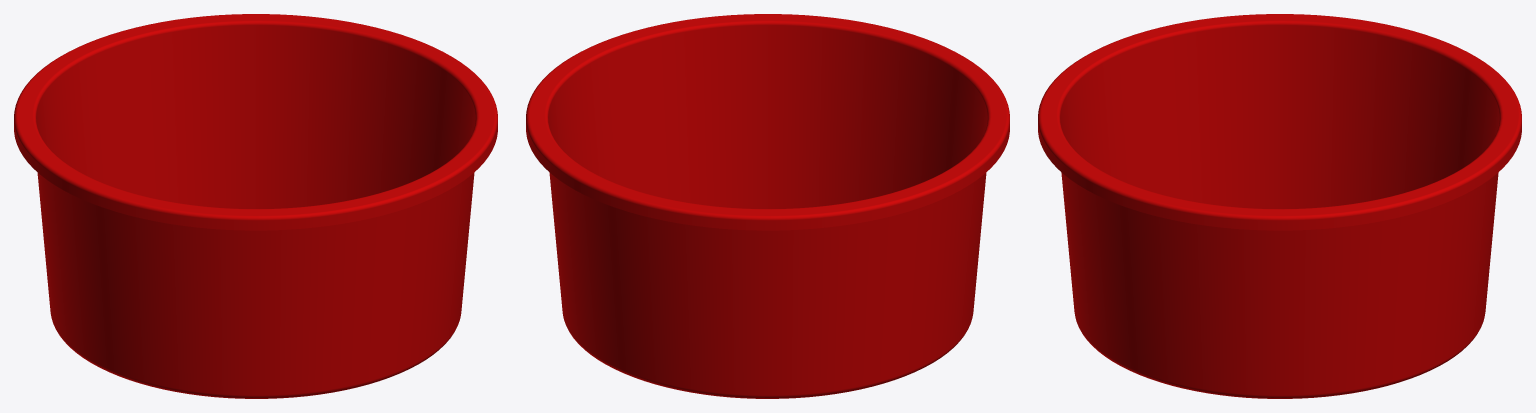
The model's file is Drum_Red.obj.
The picture shows the model from 3 angles, left to right: view 1: azimuth 30°, elevation 25°; view 2: azimuth 150°, elevation 25°; view 3: azimuth 270°, elevation 25°; orthographic projection.
Parts seen in each view (by area): view 1: Solid1; view 2: Solid1; view 3: Solid1.
Boxes of the visible parts, x1,y1,x2,y2 form: Solid1: [14, 14, 497, 398]; Solid1: [526, 14, 1009, 398]; Solid1: [1038, 14, 1521, 398].
Size of the model in its own units: 0.66 by 0.3 by 0.6597.
